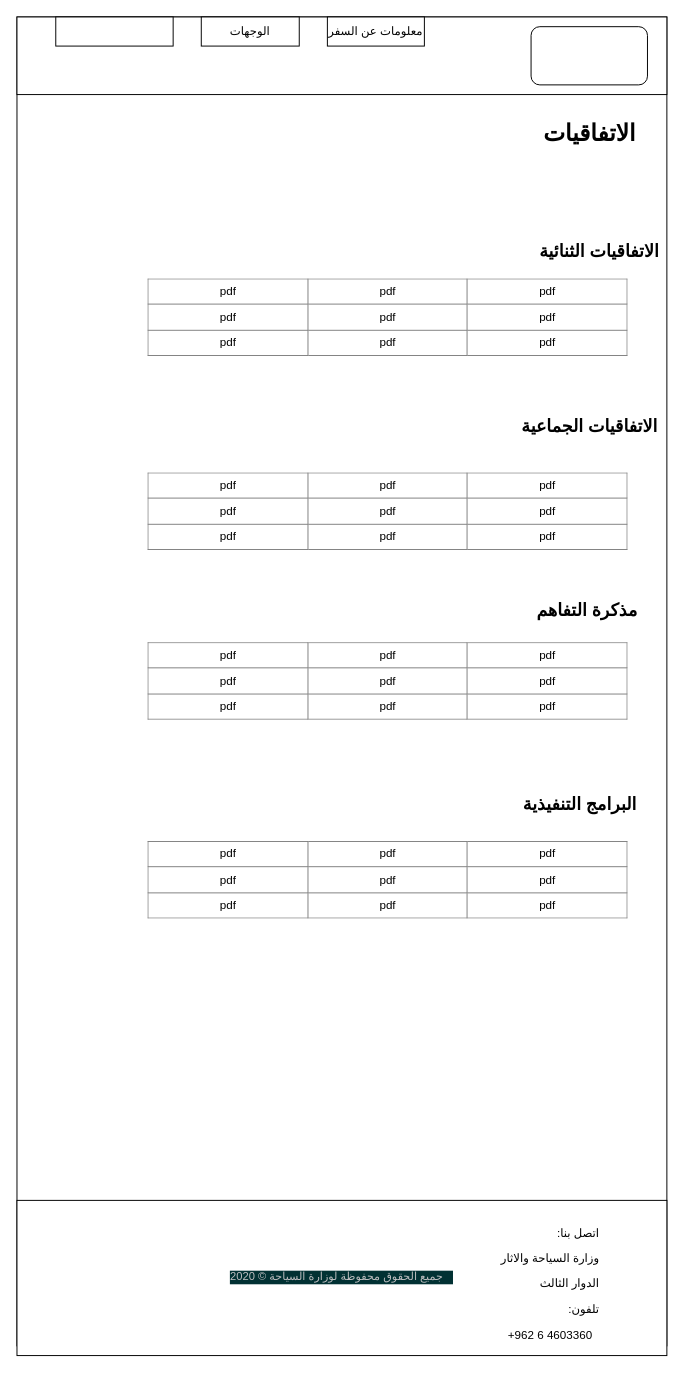
Image size: 684x1373. Some labels were removed from this diagram. The shapes that lost their labels are listed below. From the top down, each one's centre as x and y in pixels, then its label:
At (114,31): "الضفحة الرئيسية".
At (588,55): "Logo وزارة السياحة والاثار".
